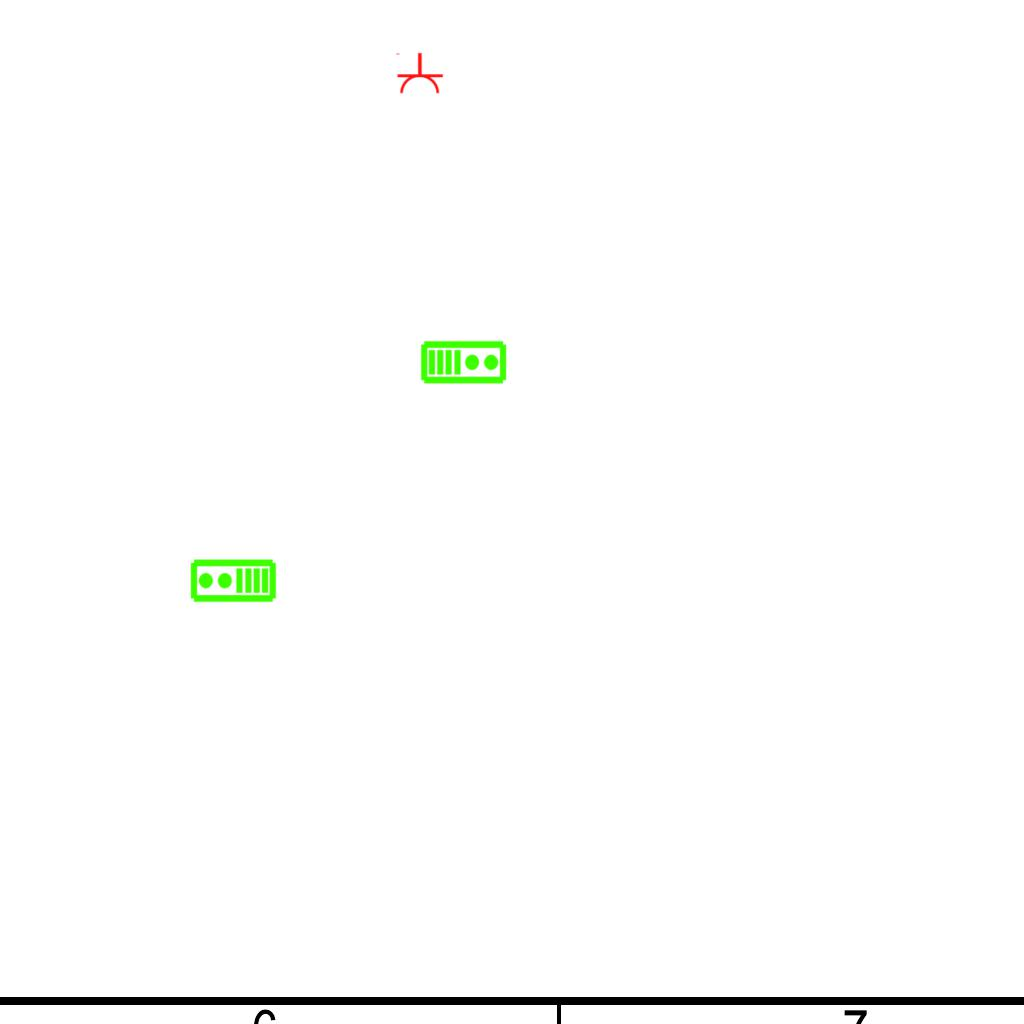Gegensprechanlage_mit_Video: (189, 558, 277, 605), (420, 338, 508, 385)
Schukosteckdose_einfach: (394, 52, 444, 95)
